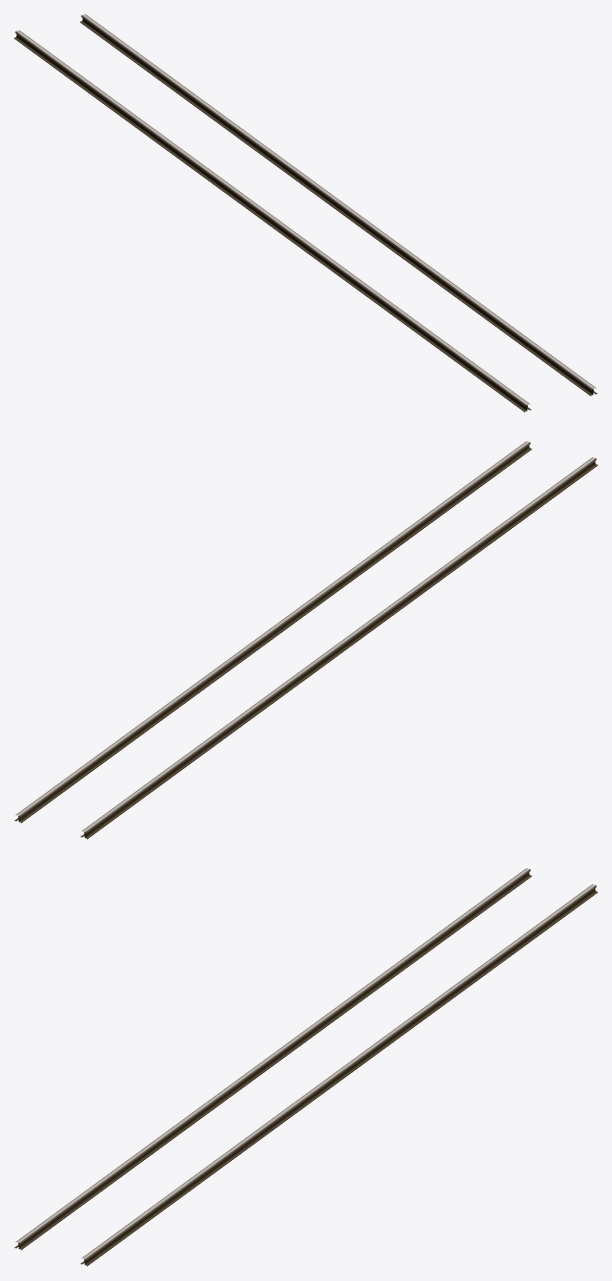
File: 1RAIL_50.glb
3 views of the same model, one above another, from view 1: azimuth 30°, elevation 25°; view 2: azimuth 150°, elevation 25°; view 3: azimuth 330°, elevation 25° (orthographic).
Visible parts, largest first — view 1: Rail; view 2: Rail; view 3: Rail.
Boxes of the visible parts, left/top/right/bottom form: Rail: left=14, top=14, right=597, bottom=412; Rail: left=14, top=441, right=597, bottom=839; Rail: left=14, top=868, right=597, bottom=1266.
Size of the model in its own units: 4.13 by 0.3971 by 50.
